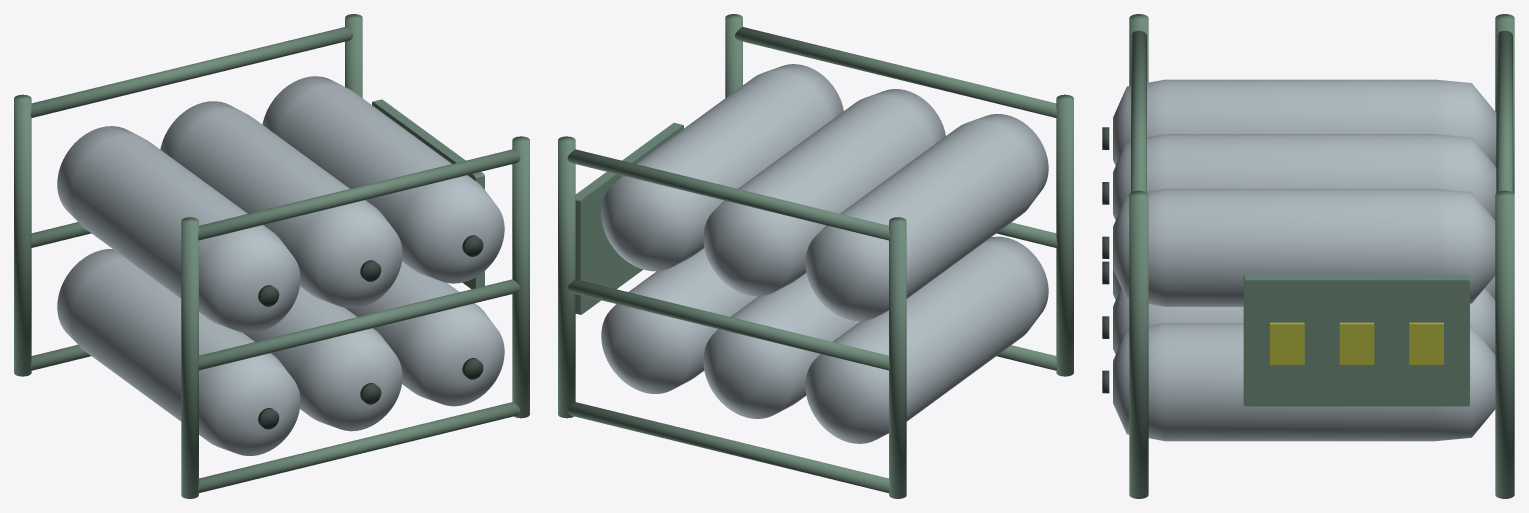
3 renders of one model, left to right at view 1: azimuth 30°, elevation 25°; view 2: azimuth 150°, elevation 25°; view 3: azimuth 270°, elevation 25°, orthographic. The views are drawn at different scales.
Parts seen in each view (by area): view 1: TI052 / individual horizontal water tank.003, TI052 / individual horizontal water tank, TI052 / individual horizontal water tank.005, TI052 / individual horizontal water tank.004, TI052 / individual horizontal water tank.002, TI052 / individual horizontal water tank.001, TI052 / rack upright, TI052 / rack upright.001, TI052 / rack horizontal brace.002, TI052 / rack horizontal brace.004, TI052 / rack horizontal brace.005, TI052 / rack horizontal brace (+5 smaller); view 2: TI052 / individual horizontal water tank.003, TI052 / individual horizontal water tank, TI052 / individual horizontal water tank.005, TI052 / individual horizontal water tank.004, TI052 / individual horizontal water tank.002, TI052 / individual horizontal water tank.001, TI052 / cargo instruction plate, TI052 / rack upright.001, TI052 / rack upright, TI052 / rack horizontal brace.003, TI052 / rack horizontal brace.005, TI052 / rack horizontal brace.004 (+5 smaller); view 3: TI052 / individual horizontal water tank.005, TI052 / cargo instruction plate, TI052 / individual horizontal water tank.002, TI052 / individual horizontal water tank.003, TI052 / individual horizontal water tank.004, TI052 / rack upright.002, TI052 / rack upright.003, TI052 / individual horizontal water tank.001, TI052 / rack horizontal brace.004, TI052 / rack horizontal brace.005, TI052 / yellow cargo pictogram, TI052 / yellow cargo pictogram.001 (+3 smaller).
Boxes of the visible parts, box(x1,y1,x2,y2) form: TI052 / individual horizontal water tank.003: box(57, 126, 300, 333); TI052 / individual horizontal water tank: box(57, 249, 300, 455); TI052 / individual horizontal water tank.005: box(262, 76, 504, 283); TI052 / individual horizontal water tank.004: box(160, 101, 402, 308); TI052 / individual horizontal water tank.002: box(345, 261, 504, 406); TI052 / individual horizontal water tank.001: box(243, 286, 402, 431); TI052 / rack upright: box(181, 217, 198, 498); TI052 / rack upright.001: box(14, 94, 31, 376); TI052 / rack horizontal brace.002: box(198, 279, 520, 370); TI052 / rack horizontal brace.004: box(198, 149, 520, 240); TI052 / rack horizontal brace.005: box(30, 27, 352, 117); TI052 / rack horizontal brace: box(198, 402, 520, 492); TI052 / individual horizontal water tank.003: box(805, 114, 1048, 321); TI052 / individual horizontal water tank: box(805, 236, 1048, 443); TI052 / individual horizontal water tank.005: box(601, 64, 843, 271); TI052 / individual horizontal water tank.004: box(703, 89, 945, 296); TI052 / individual horizontal water tank.002: box(601, 248, 757, 393); TI052 / individual horizontal water tank.001: box(703, 273, 859, 418); TI052 / cargo instruction plate: box(575, 122, 683, 314); TI052 / rack upright.001: box(889, 217, 906, 498); TI052 / rack upright: box(1056, 94, 1073, 376); TI052 / rack horizontal brace.003: box(567, 279, 889, 370); TI052 / rack horizontal brace.005: box(567, 149, 889, 240); TI052 / rack horizontal brace.004: box(735, 27, 1057, 117); TI052 / individual horizontal water tank.005: box(1113, 188, 1495, 306); TI052 / cargo instruction plate: box(1243, 275, 1469, 406); TI052 / individual horizontal water tank.002: box(1113, 323, 1495, 441); TI052 / individual horizontal water tank.003: box(1113, 79, 1496, 165); TI052 / individual horizontal water tank.004: box(1113, 134, 1496, 219); TI052 / rack upright.002: box(1129, 190, 1148, 498); TI052 / rack upright.003: box(1495, 190, 1514, 498); TI052 / individual horizontal water tank.001: box(1113, 288, 1495, 354); TI052 / rack horizontal brace.004: box(1131, 30, 1146, 192); TI052 / rack horizontal brace.005: box(1497, 30, 1512, 192); TI052 / yellow cargo pictogram: box(1269, 322, 1304, 365); TI052 / yellow cargo pictogram.001: box(1339, 322, 1374, 365).
Bounding box in the file's own units: 2.56 × 1.9 × 2.36.
